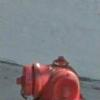Hydrant: (17, 48, 84, 100)
